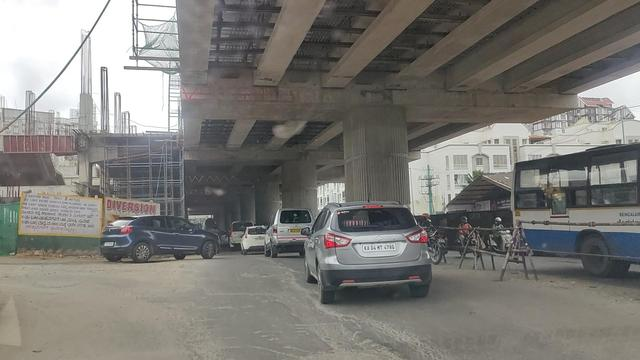LMV: (306, 199, 431, 301), (269, 211, 312, 252), (242, 223, 271, 252)
RoadDamages: (292, 303, 450, 360), (276, 260, 312, 302), (241, 267, 274, 281)
